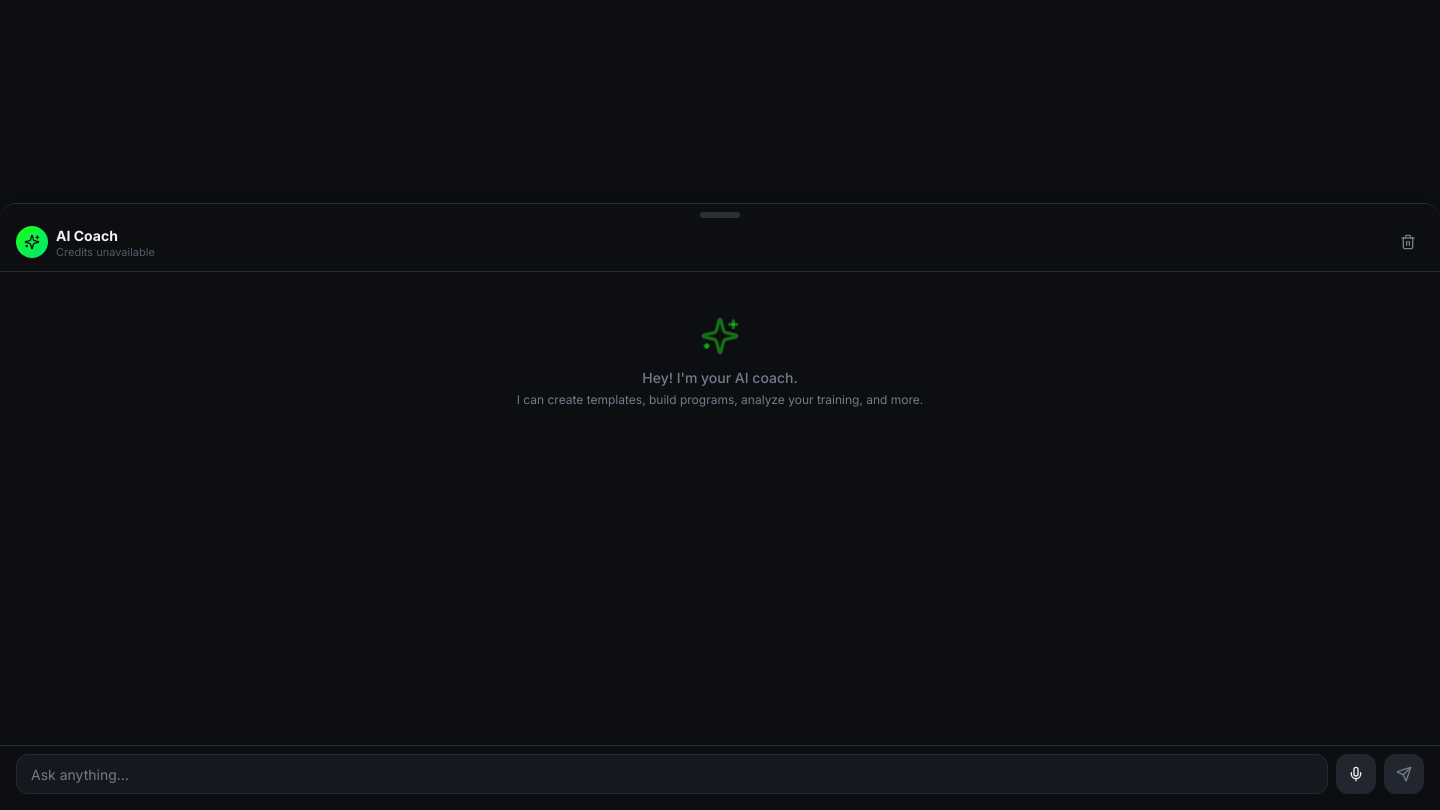
AI coach voice input › sends the dictated message and lets nothing come back afterwards
Click the button named "Start voice input" at x=1356, y=774, box 1336,754 -> 1376,794
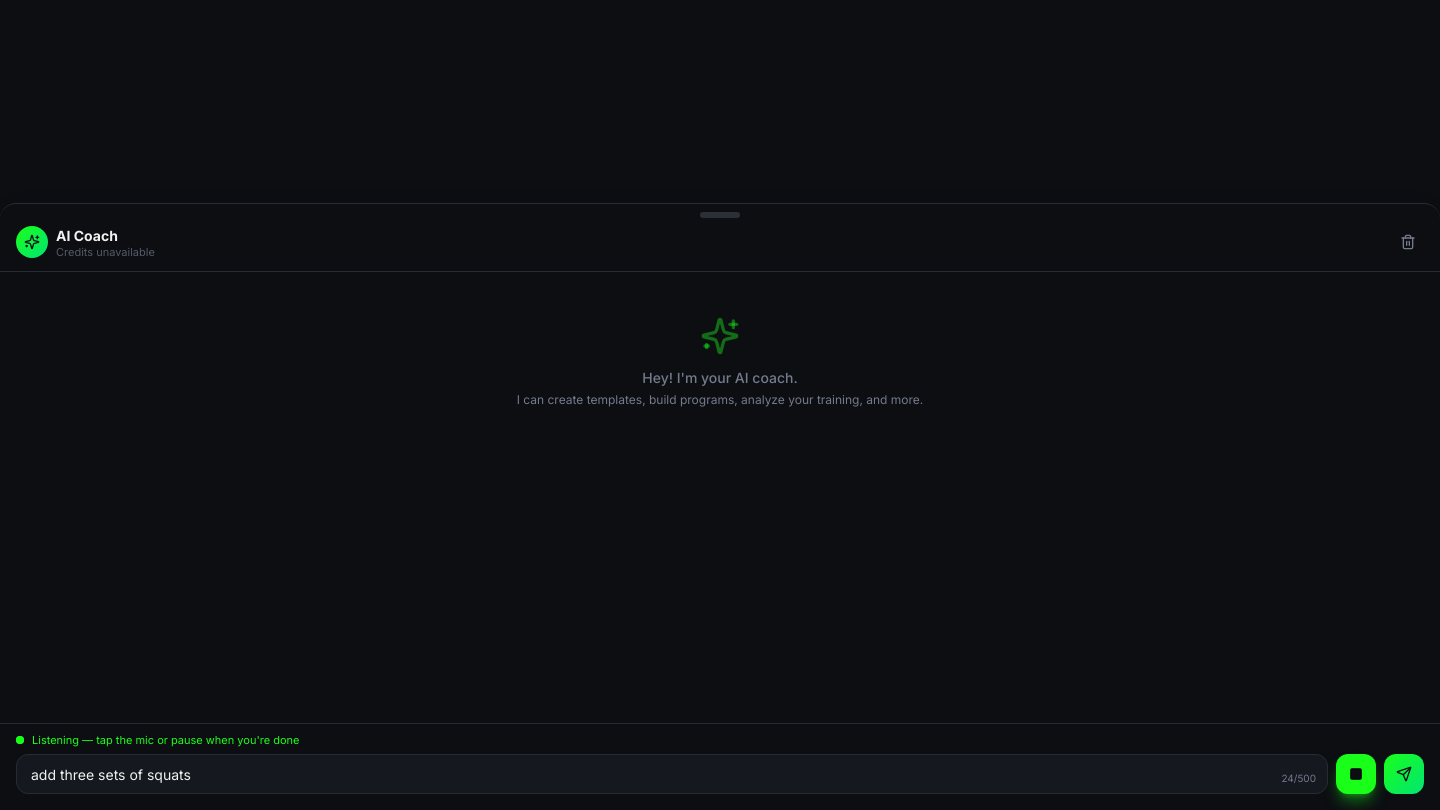
Click the button named "Send message" at x=1404, y=774, box 1384,754 -> 1424,794
Wait 11000 ms
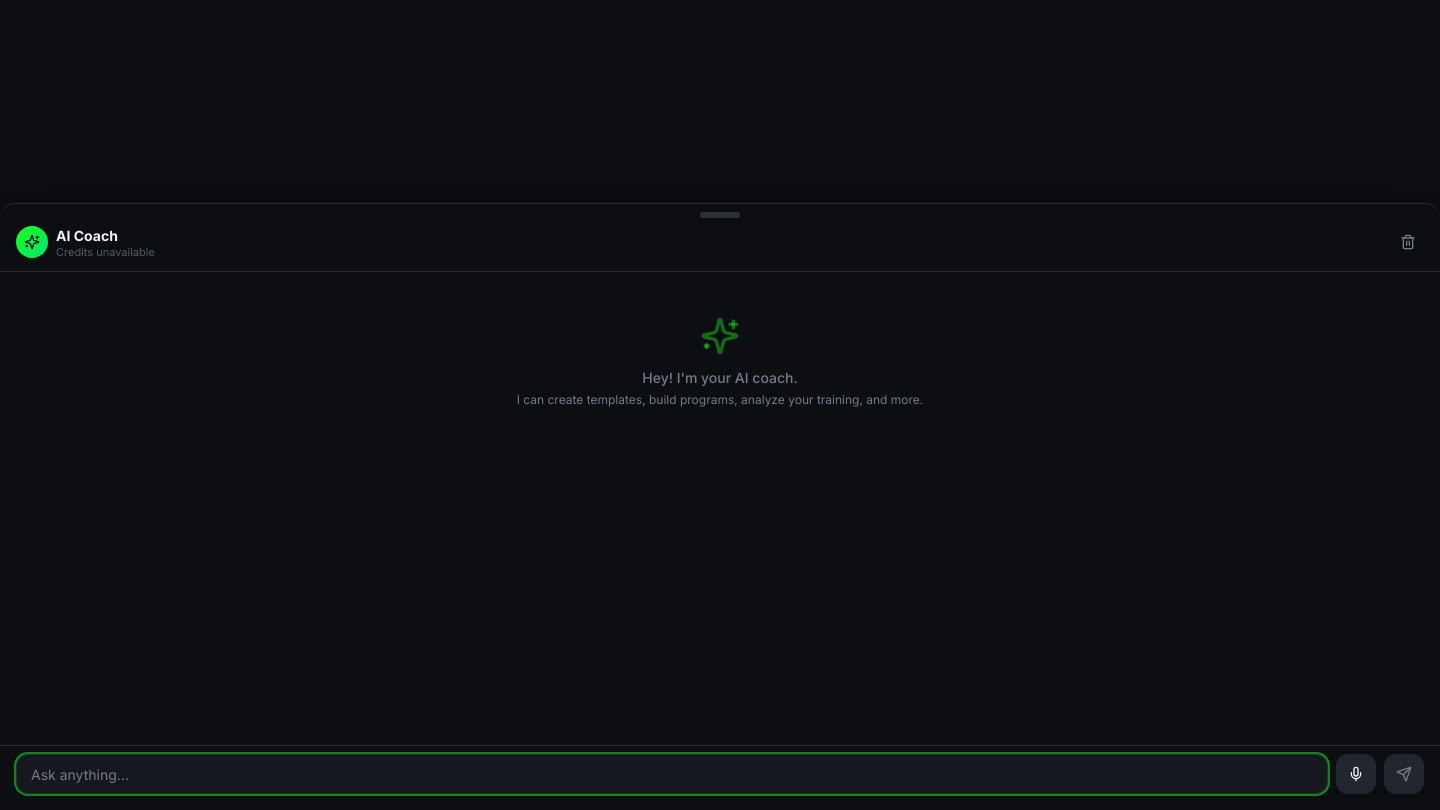
Expected: the button named "Start voice input" is shown, 1336,754 -> 1376,794
Expected: the text box is empty, 16,754 -> 1328,794
